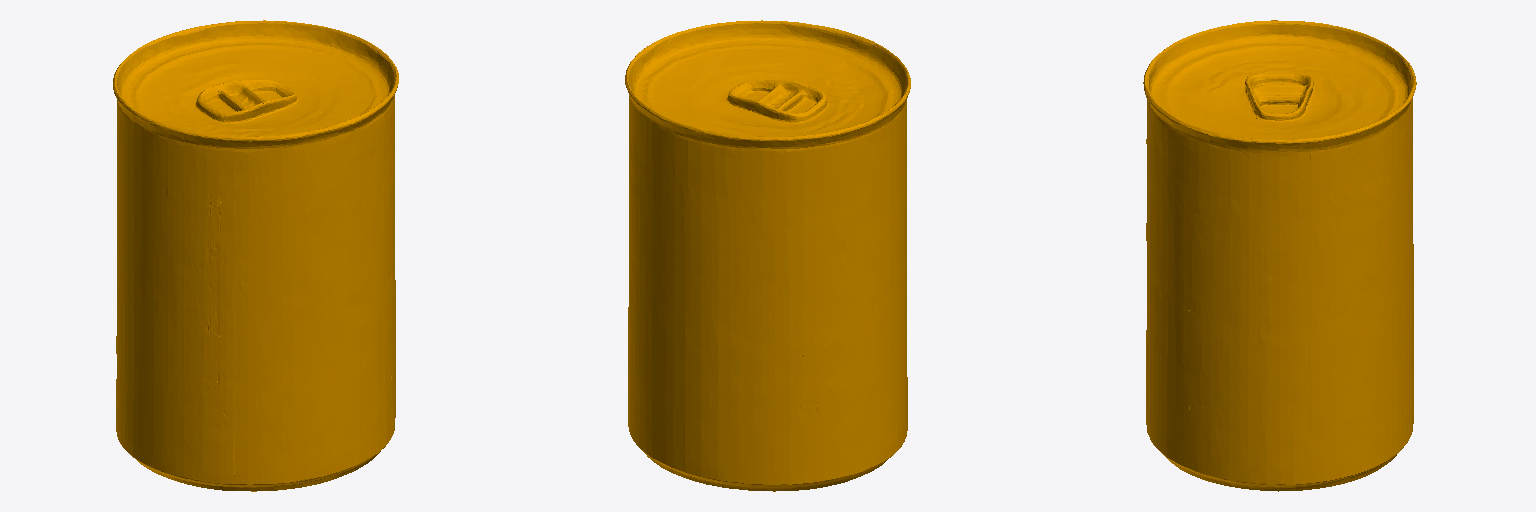
URDF robot description (sample):
<?xml version="1.0" ?>
<robot name="sample">
   <link name="sample">
      <visual>
         <origin xyz="0 0 0" rpy="1.5708 0.0 0.0"/>
         <geometry>
            <mesh filename="mesh/sample.obj" scale="1.0 1.0 1.0"/>
         </geometry>
      </visual>
      <collision>
         <origin xyz="0 0 0" rpy="1.5708 0.0 0.0"/>
         <geometry>
            <mesh filename="mesh/sample_collision.obj" scale="1.0 1.0 1.0"/>
         </geometry>
         <gazebo>
            <mu1>0.60</mu1>
            <mu2>0.50</mu2>
         </gazebo>
      </collision>
      <inertial>
         <mass value="0.5000"/>
         <origin xyz="0 0 0"/>
         <inertia ixx="1.0" ixy="0.0" ixz="0.0" iyy="1.0" iyz="0.0" izz="1.0"/>
      </inertial>
      <extra_info>
         <scale>0.135000</scale>
         <version>v0.1.7</version>
         <category>canned food</category>
         <description>red and white cylindrical can with label</description>
         <min_height>0.12</min_height>
         <max_height>0.15</max_height>
         <real_height>0.135</real_height>
         <min_mass>0.4</min_mass>
         <max_mass>0.6</max_mass>
         <color>red</color>
         <rgba>[1.0, 0.0, 0.0, 1.0]</rgba>
         <generate_time>20260615170552</generate_time>
         <gs_model>mesh/sample_gs.ply</gs_model>
      </extra_info>
   </link>
   <custom_data>
      <quality>
         <MeshGeoChecker>YES</MeshGeoChecker>
         <ImageSegChecker>NO, object is not centered and background artifacts remain.</ImageSegChecker>
         <ImageAestheticChecker>3.9308223724365234</ImageAestheticChecker>
         <overall>NO</overall>
      </quality>
   </custom_data>
</robot>

--- What the picture shows (computed from the rendered views, not written in the file) ---
Views: 3 orthographic renders of the robot side by side, from view 1: azimuth 30°, elevation 25°; view 2: azimuth 150°, elevation 25°; view 3: azimuth 270°, elevation 25°.
Model sample with 1 links and 0 joints (none), rooted at sample, posed all joints at 0.
Visible links, largest first — view 1: sample; view 2: sample; view 3: sample.
Boxes of the visible links, box(x1,y1,x2,y2) form: sample: box(113, 20, 398, 491); sample: box(625, 20, 910, 491); sample: box(1143, 20, 1416, 491).
Bounding box of the posed robot: 0.0981 × 0.0937 × 0.135 m (x, y, z).
Meshes: 1 distinct files referenced, 1 mesh visuals loaded (1 OBJ).
